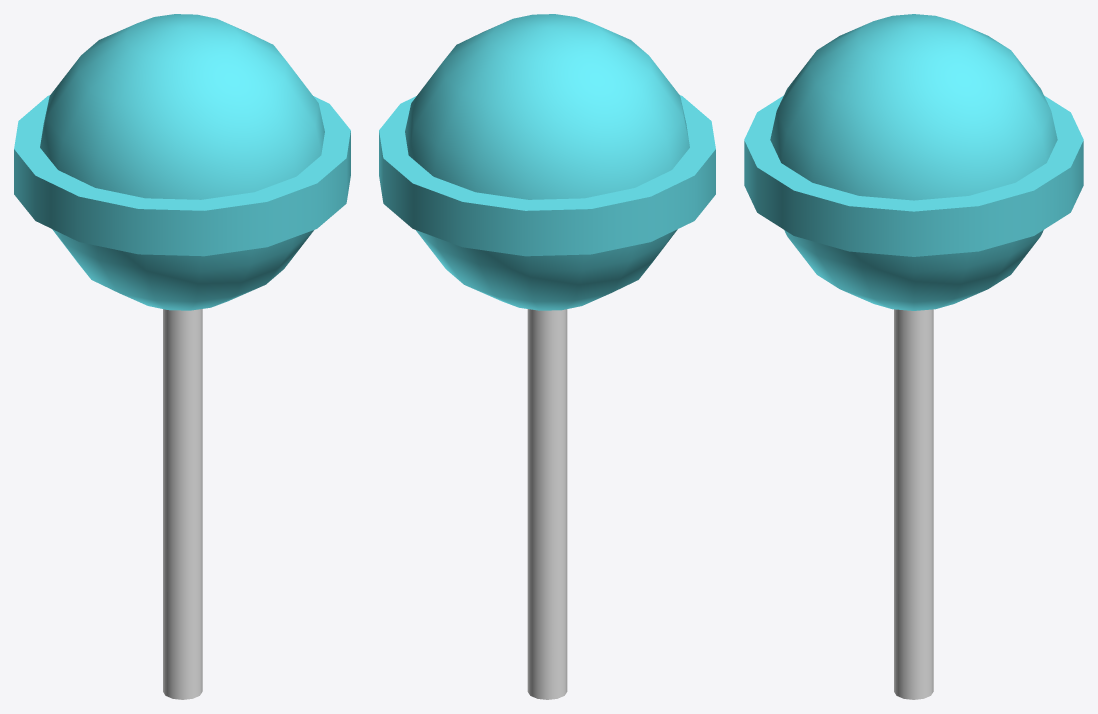
Rendered from sucette.fbx.
The picture shows the model from 3 angles, left to right: view 1: azimuth 30°, elevation 25°; view 2: azimuth 150°, elevation 25°; view 3: azimuth 270°, elevation 25°; orthographic projection.
Parts seen in each view (by area): view 1: Sphere001; view 2: Sphere001; view 3: Sphere001.
Boxes of the visible parts, x1,y1,x2,y2 form: Sphere001: [14, 14, 350, 699]; Sphere001: [379, 14, 715, 699]; Sphere001: [744, 14, 1083, 699].
Bounding box in the file's own units: 8.86 × 19.11 × 8.86.
